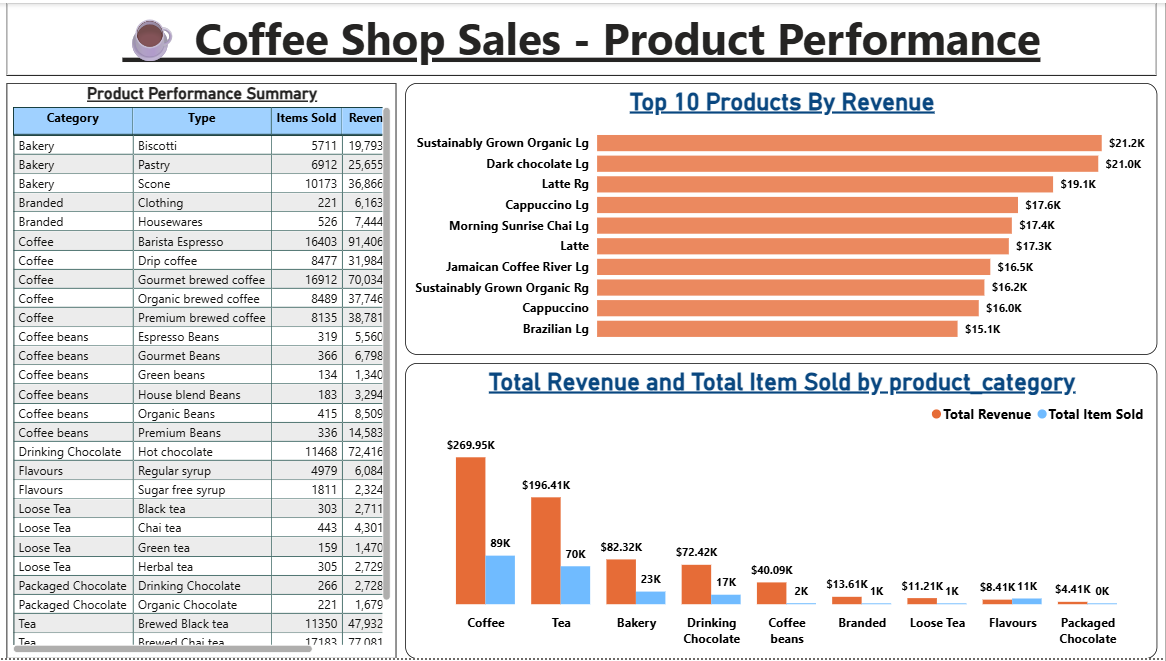

The dashboard page shown, as its layout file describes it:
{"tool":"powerbi","page":{"name":"PRODUCT PERFORMANCE","canvas":[1280,720],"ordinal":1},"visuals":[{"type":"textbox","box":[8.7,0,1262.6,79.6],"z":0},{"type":"tableEx","title":"Product Performance Summary","fields":{"Values":["projects product_performance.product_category","projects product_performance.product_type","projects product_performance.sold_count","projects product_performance.total_revenue","projects product_performance.avg_price"]},"box":[8.7,88.3,427.9,631.9],"z":1000},{"type":"clusteredBarChart","title":"Top 10 Products By Revenue","fields":{"Category":["projects coffee_shop_sales.product_detail"],"Y":["projects coffee_shop_sales.Total Revenue"]},"box":[445.3,88.3,826,298.6],"z":2000},{"type":"clusteredColumnChart","fields":{"Y":["projects coffee_shop_sales.Total Revenue","projects coffee_shop_sales.Total Item Sold"],"Category":["projects coffee_shop_sales.product_category"]},"box":[445.3,395.6,826,324.7],"z":3000}]}

Visuals, with their boxes in screenshot pixels (x1, y1, x2, y2), scaled from the page's 1280x720 canvas onto the 1166x661 screenshot:
textbox: (8, 0, 1158, 73)
"Product Performance Summary" tableEx: (8, 81, 398, 660)
"Top 10 Products By Revenue" clusteredBarChart: (406, 81, 1158, 355)
clusteredColumnChart - projects coffee_shop_sales.Total Revenue x projects coffee_shop_sales.Total Item Sold: (406, 363, 1158, 660)
